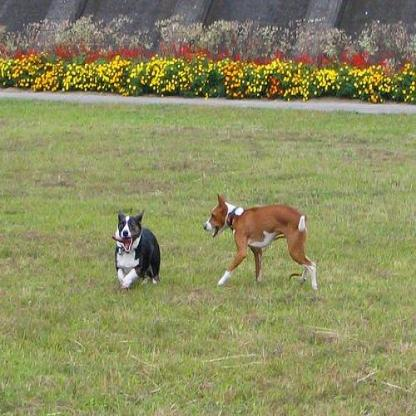basenji: (200, 189, 320, 296), (110, 206, 161, 289)
